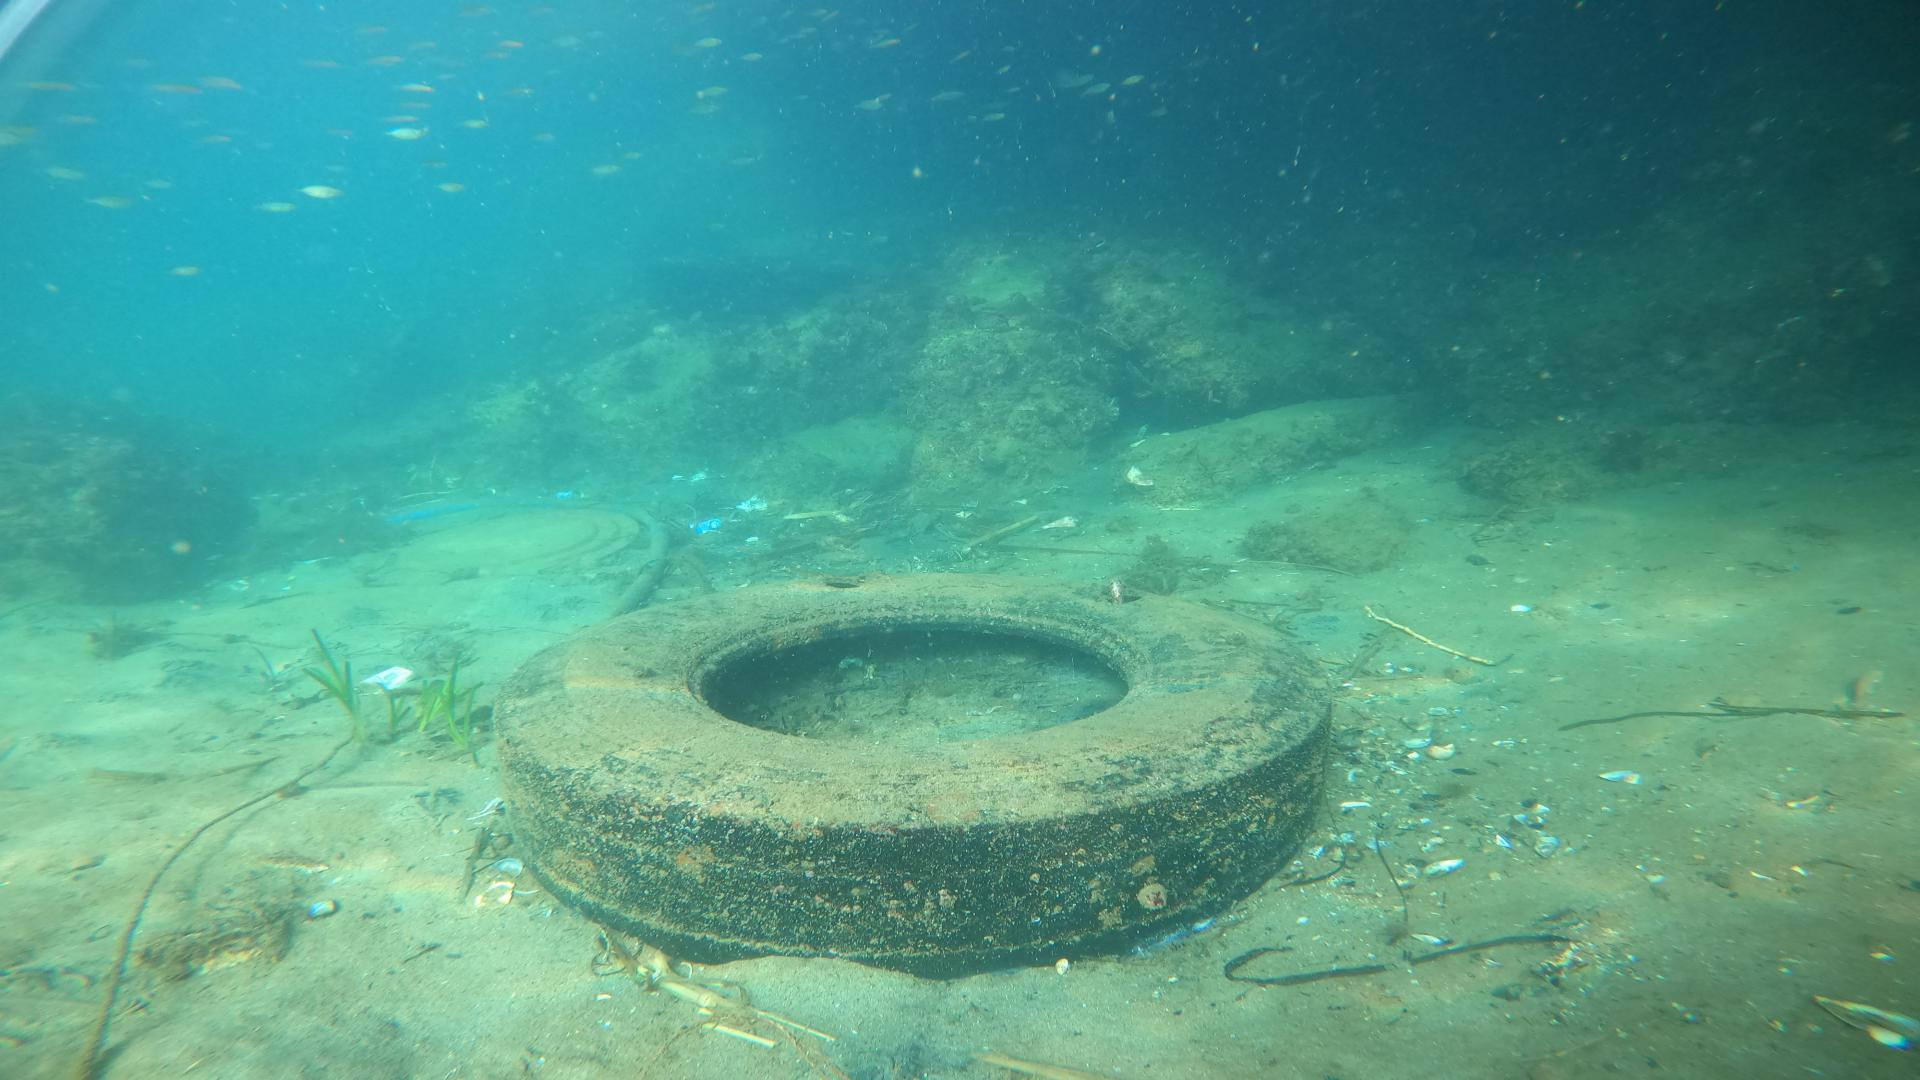tire: (488, 572, 1333, 973)
